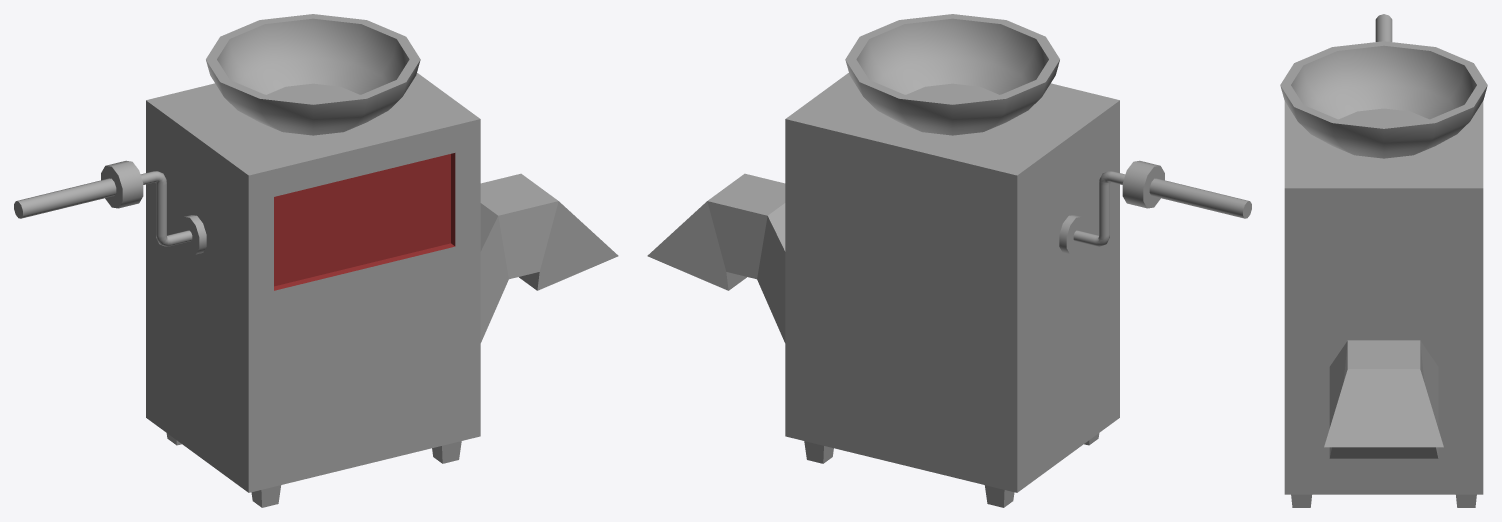
The model's file is Shredder.fbx.
The picture shows the model from 3 angles, left to right: view 1: azimuth 30°, elevation 25°; view 2: azimuth 150°, elevation 25°; view 3: azimuth 270°, elevation 25°; orthographic projection. The views are drawn at different scales.
Visible parts, largest first — view 1: shredder, crank; view 2: shredder, crank; view 3: shredder, crank.
Boxes of the visible parts, x1=… form: shredder: x1=146, y1=14, x2=618, y2=507; crank: x1=14, y1=160, x2=206, y2=254; shredder: x1=647, y1=14, x2=1119, y2=507; crank: x1=1059, y1=160, x2=1251, y2=254; shredder: x1=1280, y1=41, x2=1487, y2=507; crank: x1=1375, y1=14, x2=1392, y2=41.
Size of the model in its own units: 5.13 by 3.36 by 1.68.
